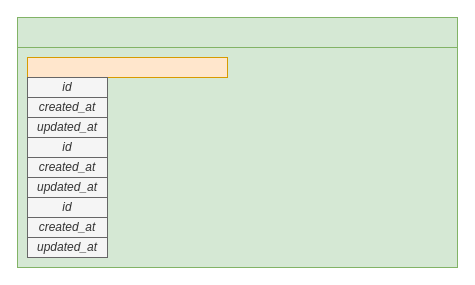
The diagram is 475 pixels wide and 285 high, and some of its shapes have lost their labels. The box of each missing label's shape, as (x1, y1, x2, y2) in pixels:
Database: (16, 16, 458, 48)
users: (26, 56, 228, 78)
